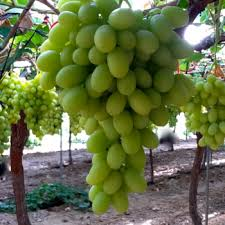Green grapes: (45, 2, 189, 220)
